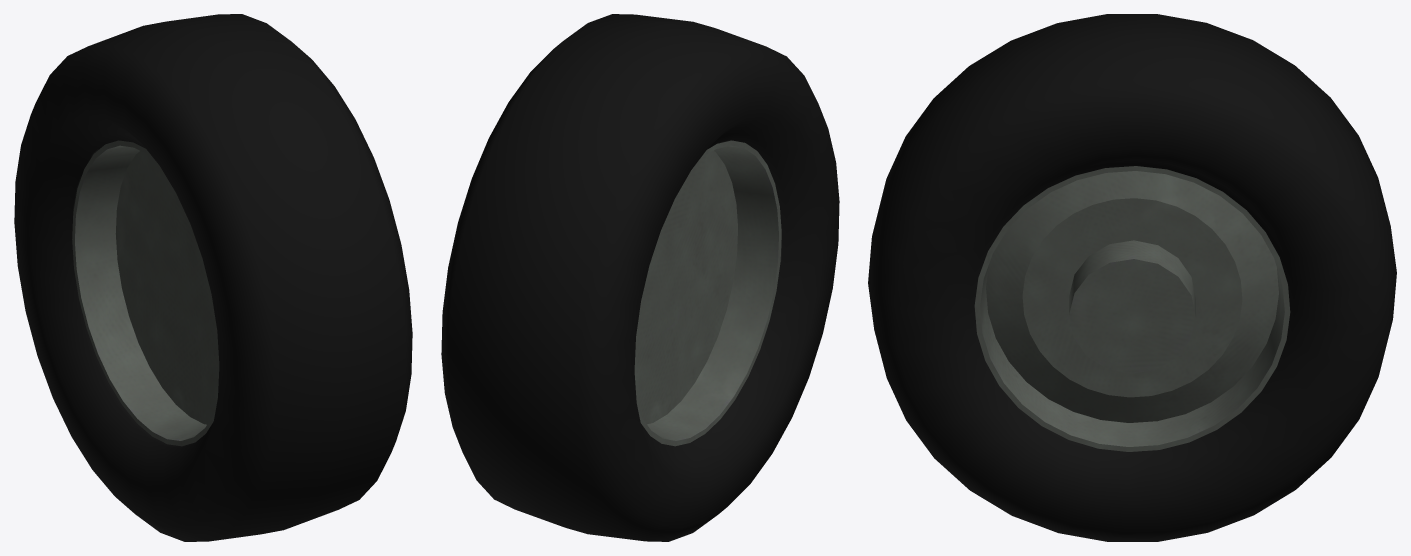
The model's file is WheelRight.dae.
The picture shows the model from 3 angles, left to right: view 1: azimuth 30°, elevation 25°; view 2: azimuth 150°, elevation 25°; view 3: azimuth 270°, elevation 25°; orthographic projection.
Visible parts, largest first — view 1: WheelRight; view 2: WheelRight; view 3: WheelRight.
Boxes of the visible parts, x1,y1,x2,y2 form: WheelRight: (14,14,412,541); WheelRight: (441,14,839,541); WheelRight: (868,14,1396,541).
Bounding box in the file's own units: 0.254 × 0.6536 × 0.6536.
1 material, 1 textured.
